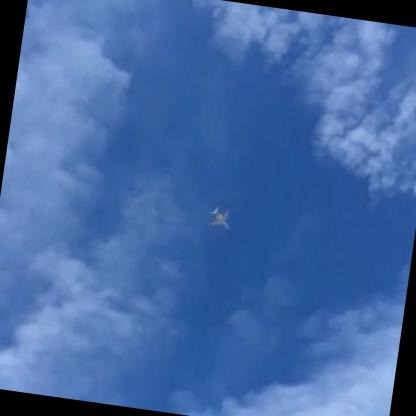plane: (206, 204, 232, 231)
